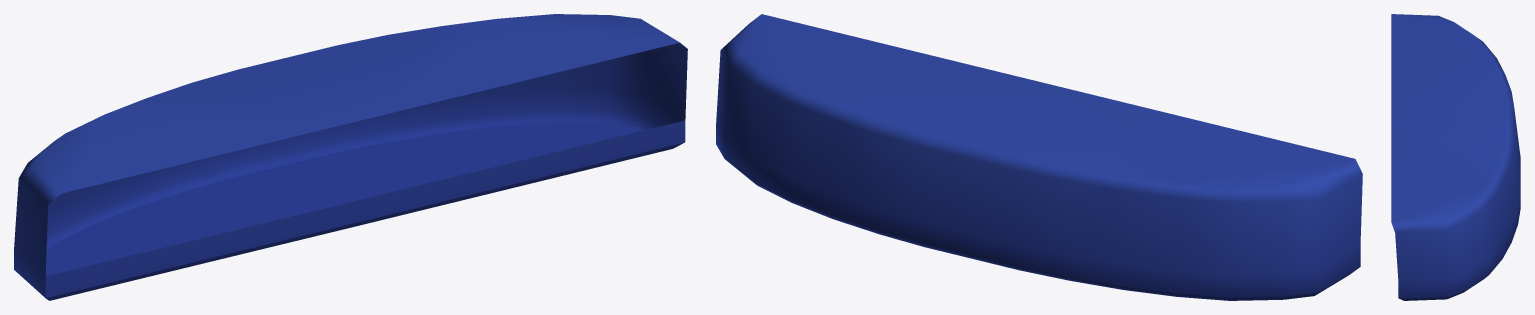
File: Car_01_RearBumper_Simple.fbx
3 renders of one model, left to right at view 1: azimuth 30°, elevation 25°; view 2: azimuth 150°, elevation 25°; view 3: azimuth 270°, elevation 25°, orthographic. The views are drawn at different scales.
Parts seen in each view (by area): view 1: Car_01_RearBumper_Simple; view 2: Car_01_RearBumper_Simple; view 3: Car_01_RearBumper_Simple.
Part boxes in pixels (left/top/right/bottom): Car_01_RearBumper_Simple: left=14, top=14, right=687, bottom=300; Car_01_RearBumper_Simple: left=716, top=14, right=1362, bottom=300; Car_01_RearBumper_Simple: left=1391, top=14, right=1520, bottom=300.
Bounding box in the file's own units: 165 × 42.1 × 28.13.
